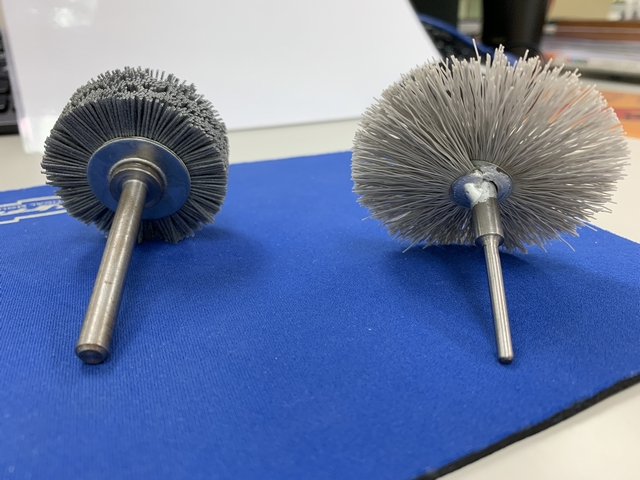TOOL: (340, 45, 640, 370)
Wheel Brush: (31, 62, 235, 363)
